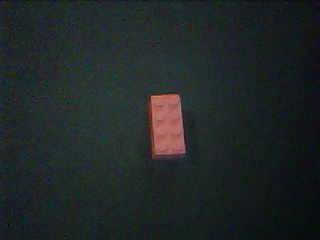lego: (148, 93, 186, 161)
